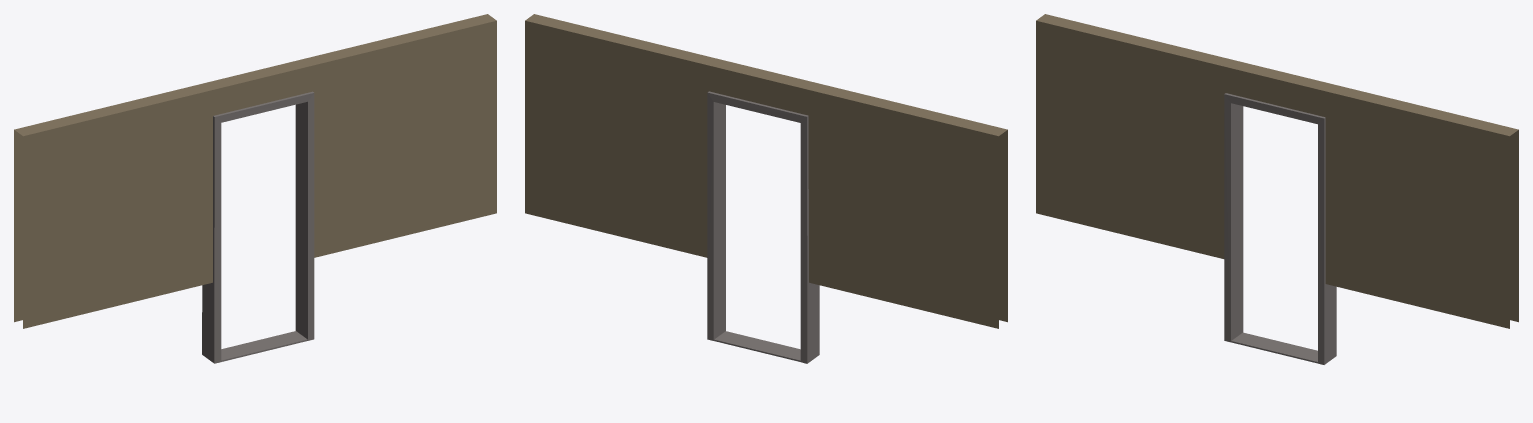
The model's file is SM_DoorFrame_A1_600.fbx.
The picture shows the model from 3 angles, left to right: view 1: azimuth 30°, elevation 25°; view 2: azimuth 150°, elevation 25°; view 3: azimuth 330°, elevation 25°; orthographic projection.
Parts seen in each view (by area): view 1: SM_DoorFrame_A1_600; view 2: SM_DoorFrame_A1_600; view 3: SM_DoorFrame_A1_600.
Boxes of the visible parts, x1,y1,x2,y2 form: SM_DoorFrame_A1_600: (14, 14, 496, 363); SM_DoorFrame_A1_600: (525, 14, 1007, 363); SM_DoorFrame_A1_600: (1036, 14, 1518, 364).
Size of the model in its own units: 600 by 330 by 27.36.
4 materials, 4 textured.
